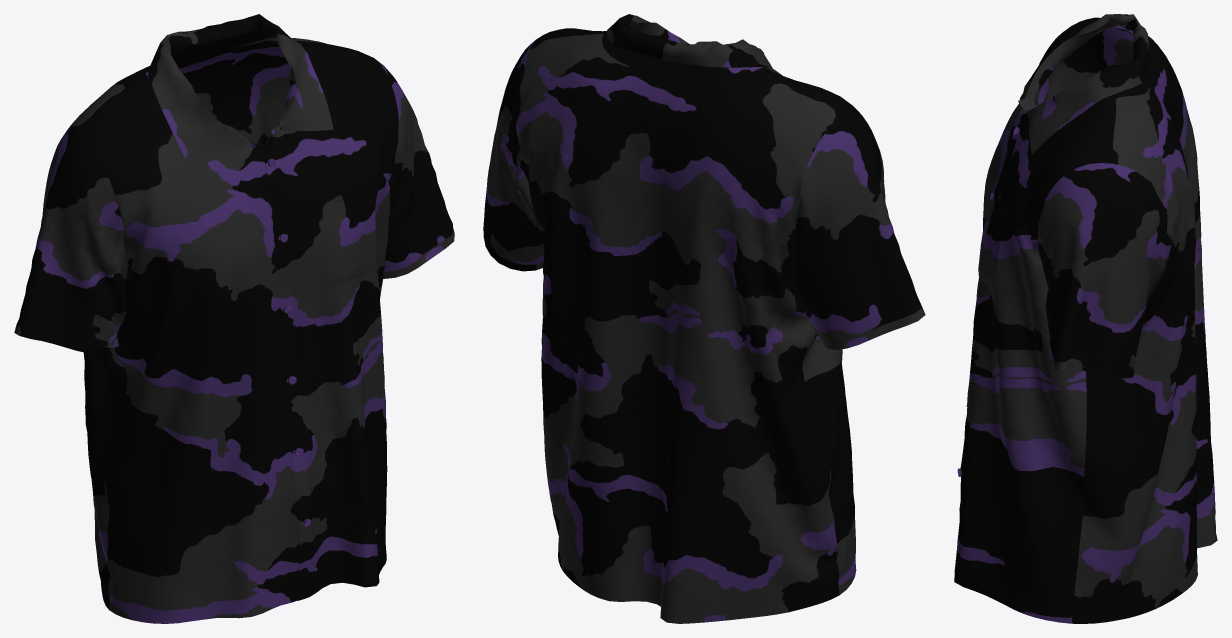
File: purple-haze.glb
The picture shows the model from 3 angles, left to right: view 1: azimuth 30°, elevation 25°; view 2: azimuth 150°, elevation 25°; view 3: azimuth 270°, elevation 25°; orthographic projection. The views are drawn at different scales.
Parts seen in each view (by area): view 1: Object_6, Object_13, Object_3, Object_5, Object_12, Object_4, Object_11, Object_8, Object_7; view 2: Object_3, Object_13, Object_6, Object_12, Object_5, Object_8; view 3: Object_3, Object_6, Object_12, Object_5, Object_13, Object_11, Object_7, Object_4.
Boxes of the visible parts, x1=… form: Object_6: x1=78, y1=40, x2=398, y2=623; Object_13: x1=16, y1=127, x2=128, y2=347; Object_3: x1=67, y1=37, x2=331, y2=609; Object_5: x1=144, y1=14, x2=333, y2=169; Object_12: x1=375, y1=59, x2=452, y2=271; Object_4: x1=245, y1=124, x2=311, y2=600; Object_11: x1=319, y1=175, x2=376, y2=285; Object_8: x1=14, y1=325, x2=111, y2=353; Object_7: x1=383, y1=227, x2=454, y2=278; Object_3: x1=515, y1=33, x2=840, y2=623; Object_13: x1=792, y1=111, x2=921, y2=342; Object_6: x1=532, y1=28, x2=861, y2=594; Object_12: x1=483, y1=40, x2=544, y2=264; Object_5: x1=602, y1=14, x2=782, y2=81; Object_8: x1=820, y1=307, x2=925, y2=349; Object_3: x1=1071, y1=30, x2=1217, y2=623; Object_6: x1=954, y1=17, x2=1116, y2=623; Object_12: x1=1037, y1=163, x2=1171, y2=370; Object_5: x1=1024, y1=14, x2=1150, y2=154; Object_13: x1=1037, y1=28, x2=1133, y2=104; Object_11: x1=978, y1=180, x2=1008, y2=298; Object_7: x1=1050, y1=358, x2=1134, y2=378; Object_4: x1=960, y1=96, x2=1035, y2=479.
Size of the model in its own units: 0.589 by 0.7019 by 0.3166.
2 materials, 1 textured.
